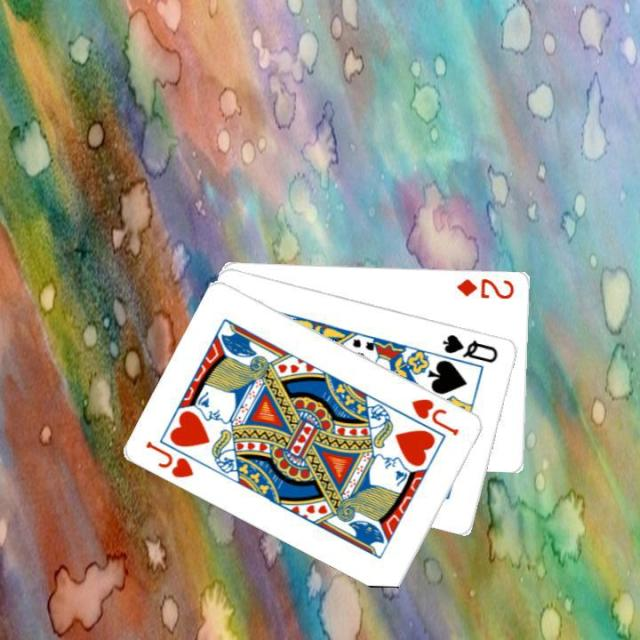2D: (454, 274, 516, 300)
JH: (142, 436, 196, 480), (408, 394, 461, 437)
QS: (438, 330, 501, 364)
